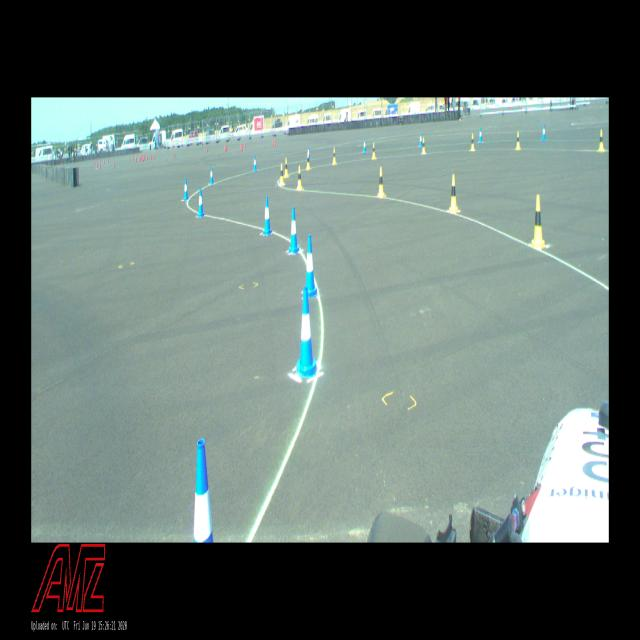blue_cone: (193, 439, 214, 543), (296, 287, 318, 376), (305, 234, 318, 298), (289, 207, 299, 253), (262, 196, 272, 235), (198, 188, 205, 217), (183, 177, 189, 200), (209, 167, 214, 185), (254, 155, 258, 172), (542, 125, 546, 141), (479, 128, 482, 144), (363, 138, 366, 154), (307, 145, 310, 161), (419, 133, 422, 147)
yellow_cone: (531, 194, 545, 248), (449, 174, 458, 213), (377, 166, 385, 198), (296, 165, 302, 190), (278, 163, 284, 186), (598, 129, 604, 152), (284, 158, 289, 178), (470, 133, 475, 152), (332, 147, 337, 165), (421, 137, 426, 155), (516, 131, 520, 150), (372, 142, 376, 159), (306, 154, 310, 171)
